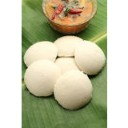idly: (52, 69, 93, 109), (26, 61, 59, 96), (75, 40, 106, 74), (24, 40, 57, 66), (54, 36, 83, 57)
